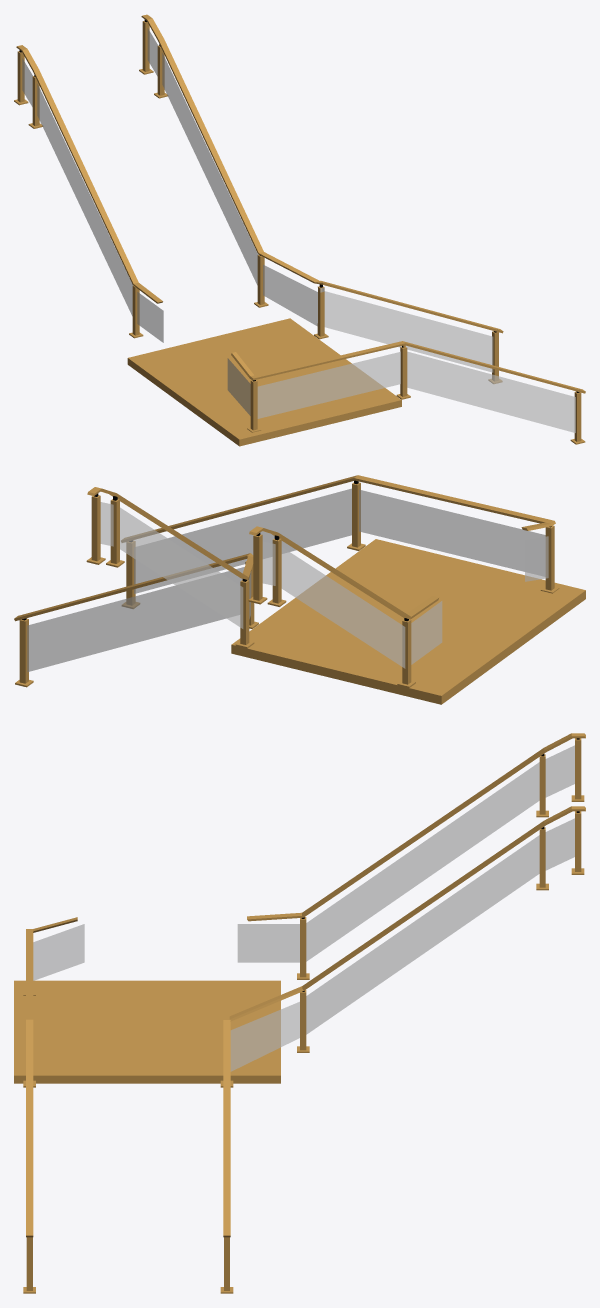
File: stairRailsFixed.glb
The picture shows the model from 3 angles, top to bottom: view 1: azimuth 30°, elevation 25°; view 2: azimuth 150°, elevation 25°; view 3: azimuth 270°, elevation 25°; orthographic projection. The views are drawn at different scales.
Visible parts, largest first — view 1: Cube.183, Cube.186, Cube.144, Cube.180, Cube.178; view 2: Cube.183, Cube.186, Cube.178, Cube.144, Cube.180, Cube.179, Cube.136, Cube.142, Cube.139, Cube.116, Cube.143, Cube.140 (+4 smaller); view 3: Cube.183, Cube.186, Cube.144, Cube.178, Cube.180.
Part boxes in pixels (x1,y1,x2,y2): Cube.183: (22, 28, 575, 432); Cube.186: (127, 318, 401, 446); Cube.144: (141, 14, 503, 333); Cube.180: (16, 45, 162, 303); Cube.178: (231, 341, 585, 393); Cube.183: (27, 488, 548, 671); Cube.186: (231, 539, 585, 704); Cube.178: (121, 475, 555, 542); Cube.144: (14, 487, 253, 621); Cube.180: (249, 526, 438, 619); Cube.179: (248, 533, 267, 604); Cube.136: (86, 493, 105, 564); Cube.142: (397, 618, 415, 687); Cube.139: (235, 579, 254, 648); Cube.116: (15, 618, 33, 687); Cube.143: (267, 535, 286, 606); Cube.140: (106, 496, 124, 567); Cube.183: (33, 745, 574, 1071); Cube.186: (14, 980, 280, 1083); Cube.144: (223, 806, 585, 1237); Cube.178: (26, 917, 77, 1237); Cube.180: (247, 733, 585, 921).
Size of the model in its own units: 4.92 by 4.09 by 5.79.
Materials: 2 (1 with a texture image).
